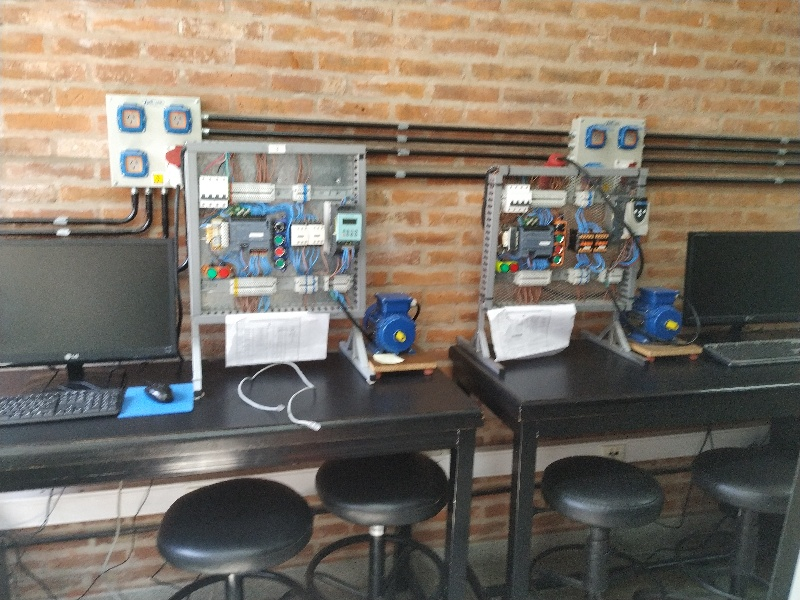Tablero 3: (195, 148, 364, 317)
Tablero 4: (500, 171, 651, 305)
